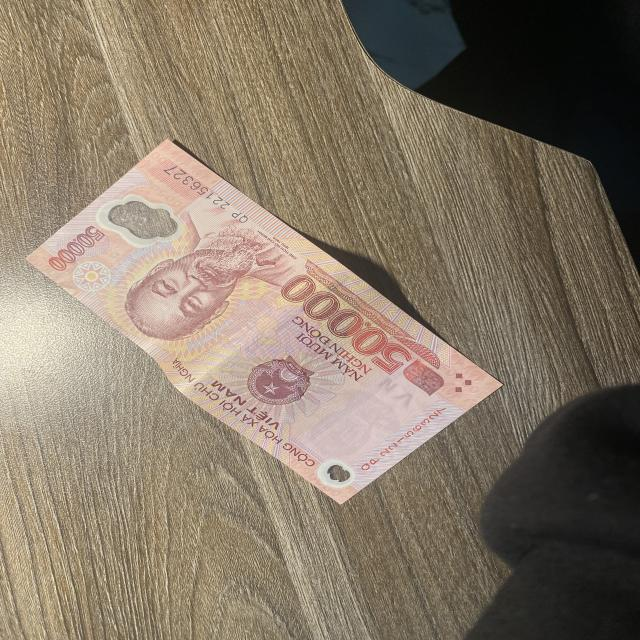50 000 VND: (30, 129, 506, 514)
